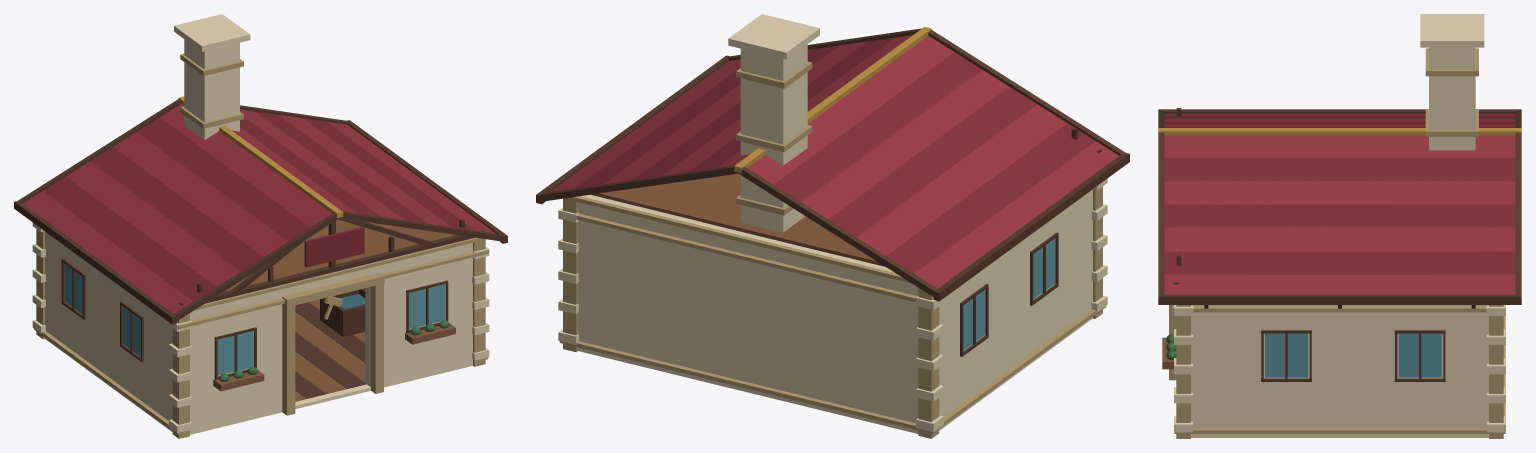
The model's file is Forge.glb.
3 renders of one model, left to right at view 1: azimuth 30°, elevation 25°; view 2: azimuth 150°, elevation 25°; view 3: azimuth 270°, elevation 25°, orthographic. The views are drawn at different scales.
Parts seen in each view (by area): view 1: Forge_002_Side, Forge_003_FrontWing, Forge_040_FrontWing, Forge_097_RoofTileBand, Forge_095_RoofTileBand, Forge_096_RoofTileBand, Forge_098_RoofTileBand, Forge_094_RoofTileBand, Forge_099_RoofTileBand, Forge_191_ForgeChimney, Forge_093_RoofTileBand, Forge_124_Ceiling (+39 smaller); view 2: Forge_001_Rear, Forge_002_Side, Forge_191_ForgeChimney, Forge_097_RoofTileBand, Forge_096_RoofTileBand, Forge_095_RoofTileBand, Forge_094_RoofTileBand, Forge_098_RoofTileBand, Forge_124_Ceiling, Forge_099_RoofTileBand, Forge_093_RoofTileBand, Forge_112_RoofTileBand (+26 smaller); view 3: Forge_039_Side, Forge_110_RoofTileBand, Forge_107_RoofTileBand, Forge_108_RoofTileBand, Forge_109_RoofTileBand, Forge_111_RoofTileBand, Forge_106_RoofTileBand, Forge_112_RoofTileBand, Forge_191_ForgeChimney, Forge_115_Eave, Forge_119_Ridge, Forge_195_ChimneyCap (+17 smaller).
Boxes of the visible parts, box(x1,y1,x2,y2) form: Forge_002_Side: box(45, 232, 172, 431); Forge_003_FrontWing: box(190, 287, 290, 434); Forge_040_FrontWing: box(365, 243, 472, 386); Forge_097_RoofTileBand: box(66, 161, 240, 286); Forge_095_RoofTileBand: box(113, 132, 288, 256); Forge_096_RoofTileBand: box(89, 147, 263, 271); Forge_098_RoofTileBand: box(43, 176, 216, 301); Forge_094_RoofTileBand: box(136, 117, 309, 241); Forge_099_RoofTileBand: box(23, 190, 193, 313); Forge_191_ForgeChimney: box(184, 39, 239, 140); Forge_093_RoofTileBand: box(160, 103, 331, 227); Forge_124_Ceiling: box(222, 219, 457, 292); Forge_001_Rear: box(578, 195, 918, 432); Forge_002_Side: box(939, 189, 1092, 428); Forge_191_ForgeChimney: box(740, 44, 807, 232); Forge_097_RoofTileBand: box(856, 104, 1066, 255); Forge_096_RoofTileBand: box(828, 86, 1037, 237); Forge_095_RoofTileBand: box(800, 69, 1010, 219); Forge_094_RoofTileBand: box(774, 52, 982, 202); Forge_098_RoofTileBand: box(886, 123, 1095, 273); Forge_124_Ceiling: box(591, 173, 884, 266); Forge_099_RoofTileBand: box(914, 141, 1118, 288); Forge_093_RoofTileBand: box(747, 35, 954, 184); Forge_112_RoofTileBand: box(550, 59, 740, 191); Forge_039_Side: box(1191, 305, 1488, 437); Forge_110_RoofTileBand: box(1164, 226, 1515, 251); Forge_107_RoofTileBand: box(1164, 157, 1515, 181); Forge_108_RoofTileBand: box(1164, 179, 1515, 204); Forge_109_RoofTileBand: box(1164, 203, 1515, 228); Forge_111_RoofTileBand: box(1164, 250, 1515, 275); Forge_106_RoofTileBand: box(1164, 135, 1515, 157); Forge_112_RoofTileBand: box(1164, 274, 1515, 294); Forge_191_ForgeChimney: box(1429, 47, 1475, 150); Forge_115_Eave: box(1158, 294, 1521, 304); Forge_119_Ridge: box(1158, 128, 1521, 135); Forge_195_ChimneyCap: box(1420, 14, 1484, 47).
Size of the model in its own units: 33.28 by 27.28 by 27.2.
